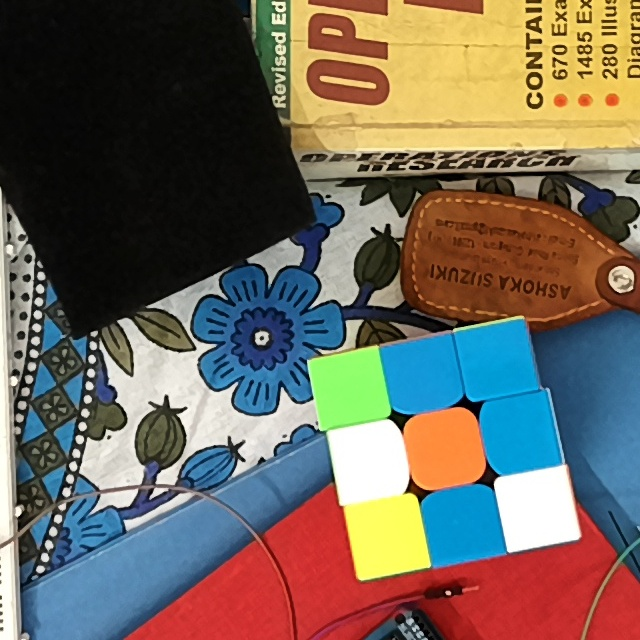tile: (357, 506, 418, 567), (508, 479, 566, 539), (416, 421, 474, 480), (468, 331, 525, 390), (432, 497, 492, 553), (494, 404, 551, 461), (391, 347, 449, 403), (344, 431, 397, 490), (320, 361, 374, 416)
